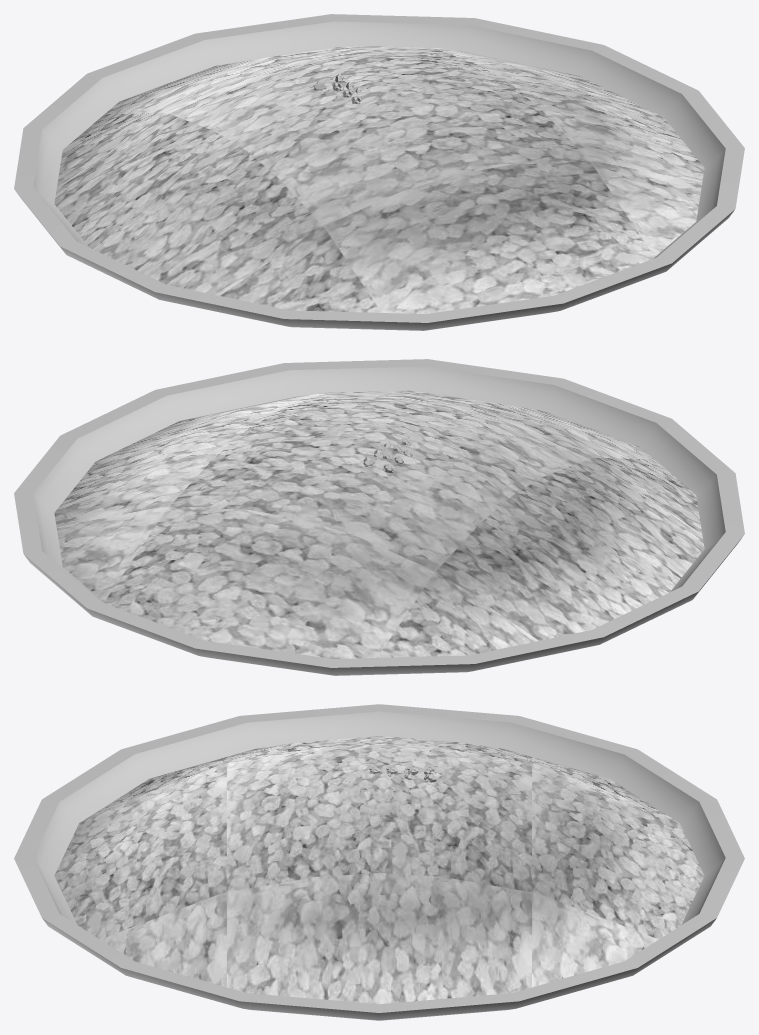
Rendered from salt crystals.fbx.
3 views of the same model, one above another, from view 1: azimuth 30°, elevation 25°; view 2: azimuth 150°, elevation 25°; view 3: azimuth 270°, elevation 25° (orthographic).
Parts seen in each view (by area): view 1: salt_crystall_; view 2: salt_crystall_; view 3: salt_crystall_.
Part boxes in pixels (x1,y1,x2,y2): salt_crystall_: (14,14,744,330); salt_crystall_: (14,359,744,675); salt_crystall_: (14,704,744,1020).
Bounding box in the file's own units: 11.92 × 2.35 × 11.92.
